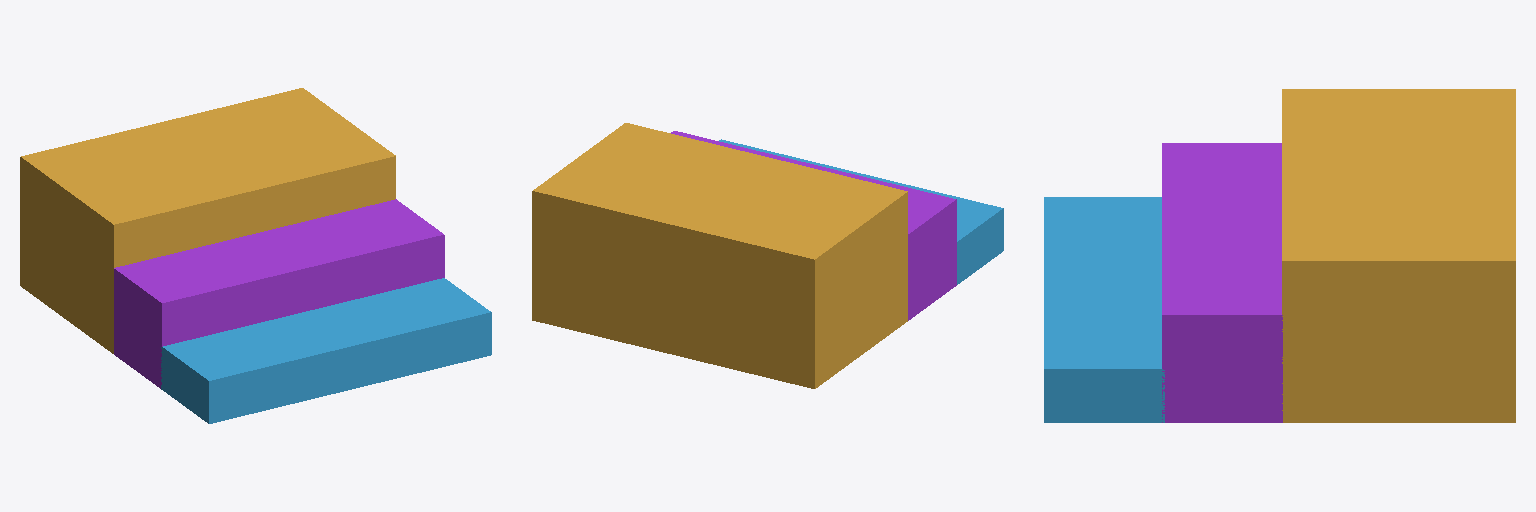
The robot description file, URDF, robot "multi_boxes":
<?xml version="1.0"?>
<robot name="multi_boxes">
  <link name="world"/>

  <!-- Step 1 (lowest) -->
  <link name="multi_boxes_box1_link">
    <visual>
      <origin rpy="0 0 0" xyz="0 0 0"/>
      <geometry>
        <mesh filename="box_models/box1.obj" scale="1 1 1"/>
      </geometry>
      <material name="box1_material">
        <color rgba="0.3 0.7 0.9 0.5"/>
      </material>
    </visual>
    <collision>
      <origin rpy="0 0 0" xyz="0 0 0"/>
      <geometry>
        <mesh filename="box_models/box1.obj" scale="1 1 1"/>
      </geometry>
    </collision>
    <inertial>
      <mass value="33.33"/>
      <origin rpy="0 0 0" xyz="0 0 0"/>
      <inertia ixx="10.0" ixy="0.0" ixz="0.0" iyy="10.0" iyz="0.0" izz="10.0"/>
    </inertial>
  </link>

  <!-- Step 2 (middle) -->
  <link name="multi_boxes_box2_link">
    <visual>
      <origin rpy="0 0 0" xyz="0 0 0"/>
      <geometry>
        <mesh filename="box_models/box2.obj" scale="1 1 1"/>
      </geometry>
      <material name="box2_material">
        <color rgba="0.7 0.3 0.9 0.5"/>
      </material>
    </visual>
    <collision>
      <origin rpy="0 0 0" xyz="0 0 0"/>
      <geometry>
        <mesh filename="box_models/box2.obj" scale="1 1 1"/>
      </geometry>
    </collision>
    <inertial>
      <mass value="33.33"/>
      <origin rpy="0 0 0" xyz="0 0 0"/>
      <inertia ixx="10.0" ixy="0.0" ixz="0.0" iyy="10.0" iyz="0.0" izz="10.0"/>
    </inertial>
  </link>

  <!-- Step 3 (tallest) -->
  <link name="multi_boxes_box3_link">
    <visual>
      <origin rpy="0 0 0" xyz="0 0 0"/>
      <geometry>
        <mesh filename="box_models/box3.obj" scale="1 1 1"/>
      </geometry>
      <material name="box3_material">
        <color rgba="0.9 0.7 0.3 0.5"/>
      </material>
    </visual>
    <collision>
      <origin rpy="0 0 0" xyz="0 0 0"/>
      <geometry>
        <mesh filename="box_models/box3.obj" scale="1 1 1"/>
      </geometry>
    </collision>
    <inertial>
      <mass value="33.33"/>
      <origin rpy="0 0 0" xyz="0 0 0"/>
      <inertia ixx="10.0" ixy="0.0" ixz="0.0" iyy="10.0" iyz="0.0" izz="10.0"/>
    </inertial>
  </link>

  <joint name="world_to_box1" type="fixed">
    <parent link="world"/>
    <child link="multi_boxes_box1_link"/>
    <origin rpy="0 0 0" xyz="0 0 0"/>
  </joint>

  <joint name="world_to_box2" type="fixed">
    <parent link="world"/>
    <child link="multi_boxes_box2_link"/>
    <origin rpy="0 0 0" xyz="0 0 0"/>
  </joint>

  <joint name="world_to_box3" type="fixed">
    <parent link="world"/>
    <child link="multi_boxes_box3_link"/>
    <origin rpy="0 0 0" xyz="0 0 0"/>
  </joint>

</robot>

--- Render facts (derived) ---
Views: 3 orthographic renders of the robot side by side, from view 1: azimuth 30°, elevation 25°; view 2: azimuth 150°, elevation 25°; view 3: azimuth 270°, elevation 25°.
Model multi_boxes with 4 links and 3 joints (3 fixed), rooted at world, posed every joint at zero.
Links seen in each view (by area): view 1: multi_boxes_box3_link, multi_boxes_box2_link, multi_boxes_box1_link; view 2: multi_boxes_box3_link, multi_boxes_box2_link, multi_boxes_box1_link; view 3: multi_boxes_box3_link, multi_boxes_box2_link, multi_boxes_box1_link.
Boxes of the visible links, x1,y1,x2,y2 form: multi_boxes_box3_link: (20, 88, 395, 353); multi_boxes_box2_link: (114, 199, 444, 388); multi_boxes_box1_link: (161, 278, 491, 423); multi_boxes_box3_link: (532, 123, 907, 388); multi_boxes_box2_link: (671, 131, 956, 320); multi_boxes_box1_link: (719, 139, 1003, 284); multi_boxes_box3_link: (1282, 89, 1515, 422); multi_boxes_box2_link: (1162, 143, 1282, 422); multi_boxes_box1_link: (1044, 197, 1164, 422).
Size in the robot's own frame: 1.16 by 1.34 by 0.51 metres.
3 mesh visuals loaded from 3 distinct referenced files (3 OBJ).
